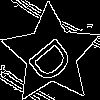D: (26, 29, 82, 87)
